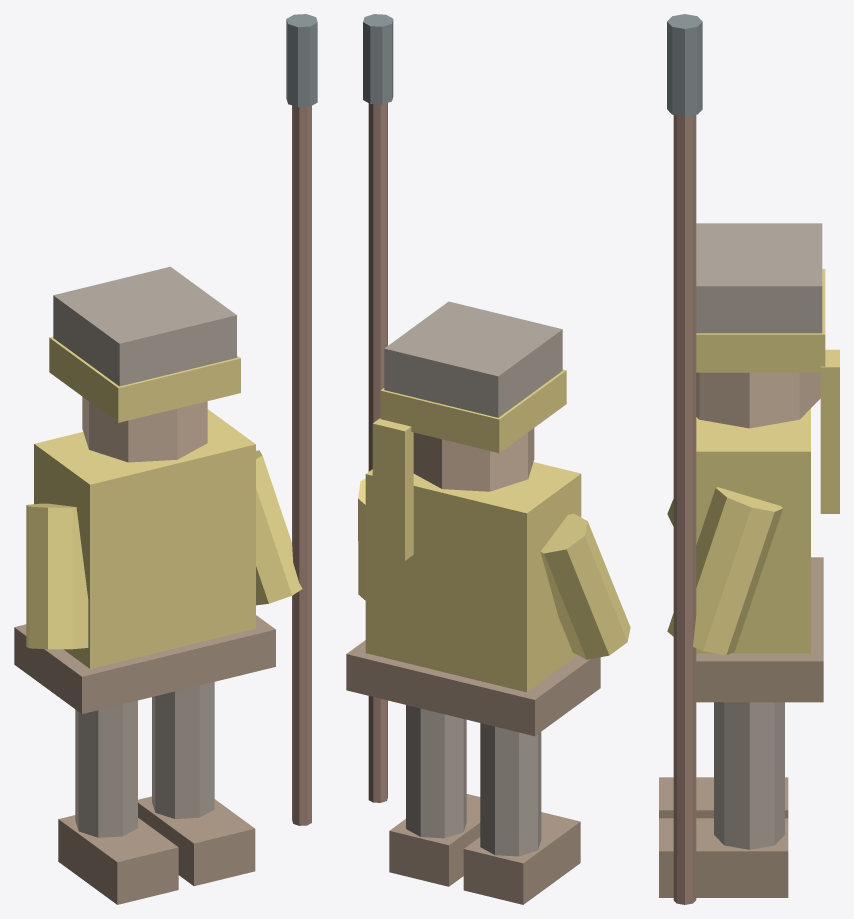
File: huangjin.glb
The picture shows the model from 3 angles, left to right: view 1: azimuth 30°, elevation 25°; view 2: azimuth 150°, elevation 25°; view 3: azimuth 270°, elevation 25°; orthographic projection. The views are drawn at different scales.
Bounding box in the file's own units: 1.09 × 3.1 × 0.56.
